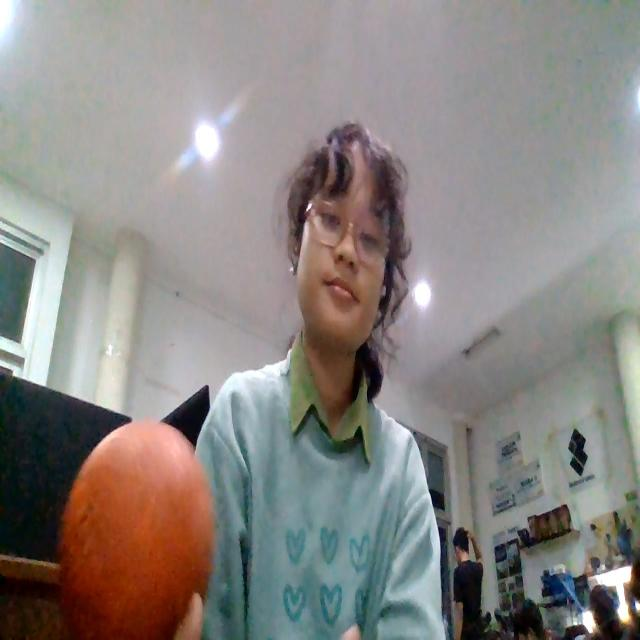ball: (57, 417, 215, 638)
